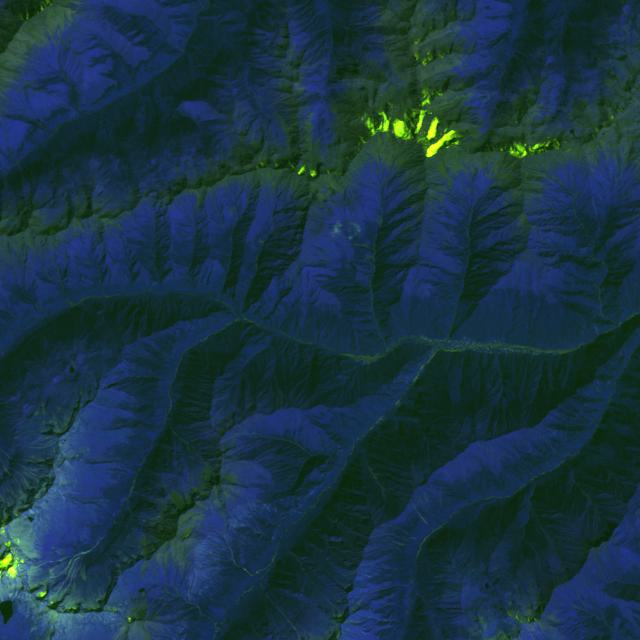landslides: (45, 534, 106, 585), (259, 582, 301, 640), (522, 155, 574, 195), (0, 460, 28, 506), (6, 455, 55, 479), (53, 259, 76, 309), (165, 425, 202, 456), (54, 556, 81, 596), (229, 518, 273, 540), (10, 467, 37, 496), (381, 524, 417, 541), (412, 503, 433, 531), (414, 490, 434, 519), (59, 567, 76, 600), (573, 605, 603, 621), (21, 471, 49, 488), (37, 556, 70, 570), (348, 592, 374, 609), (344, 616, 396, 624), (173, 606, 198, 622), (72, 557, 83, 593), (26, 433, 55, 446), (371, 533, 410, 542), (87, 575, 97, 609), (0, 490, 10, 523), (42, 267, 59, 285), (443, 276, 460, 294), (412, 459, 424, 484), (205, 528, 228, 540), (104, 553, 122, 568), (23, 465, 52, 474), (417, 494, 430, 514), (12, 479, 19, 516), (29, 440, 56, 449), (118, 544, 136, 557), (352, 243, 375, 253), (30, 611, 40, 634), (576, 590, 587, 610), (37, 619, 48, 638), (116, 550, 132, 563), (49, 561, 65, 573), (188, 572, 194, 604), (465, 183, 472, 208), (192, 567, 198, 594), (90, 510, 106, 520), (51, 564, 65, 575), (421, 488, 430, 505), (381, 584, 410, 589), (247, 243, 258, 256), (592, 196, 599, 216), (6, 484, 16, 497), (300, 577, 308, 593), (164, 570, 169, 594), (239, 405, 247, 419), (8, 482, 16, 496), (81, 564, 87, 582), (40, 435, 58, 441), (468, 41, 476, 54), (394, 380, 411, 386)
